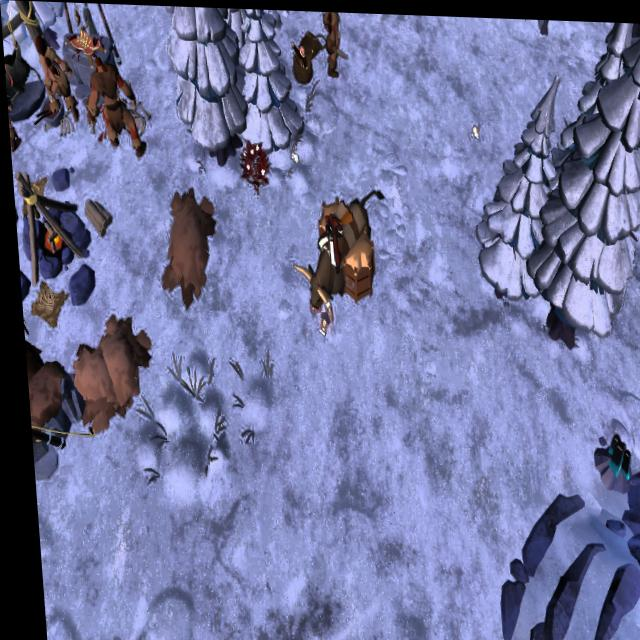enemy_factionKeeper: (83, 53, 144, 156), (33, 37, 82, 118), (319, 9, 350, 80)
fiber_t5: (237, 138, 272, 191)
ore_t4: (597, 424, 625, 480)
